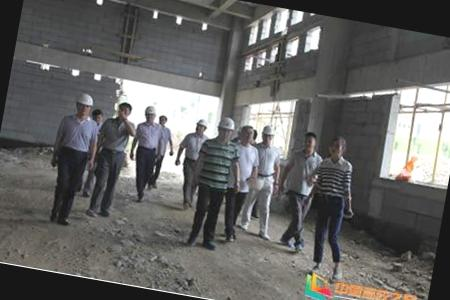no_helmet: (326, 133, 350, 160), (298, 130, 322, 157), (238, 123, 258, 146), (113, 99, 133, 122), (90, 106, 106, 126), (156, 113, 170, 130)
